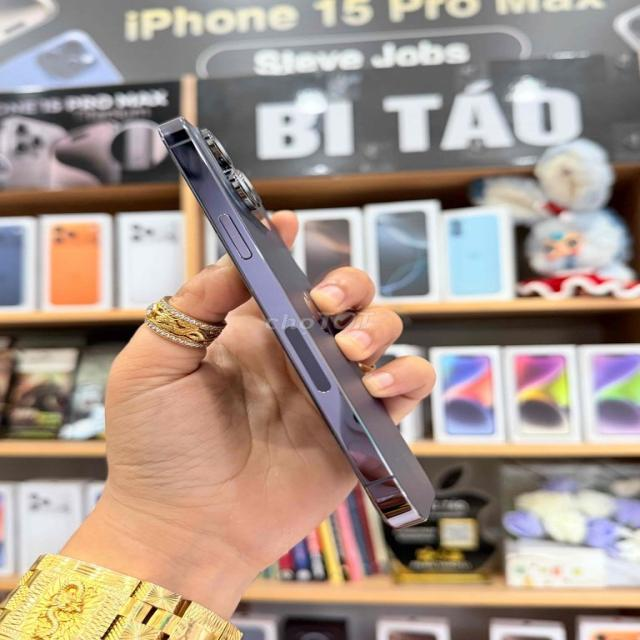gen_14: (152, 96, 442, 532)
